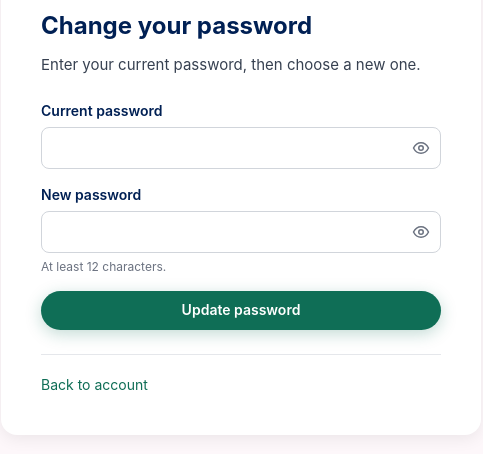
Test: ResetPasswordForm — validation › blocks when the new password equals the current password
The width and height of the screenshot is (483, 454).
Type "OldStrong!Pass99" into the password field labelled "Current password" at (241, 148), box [41,127,441,169]
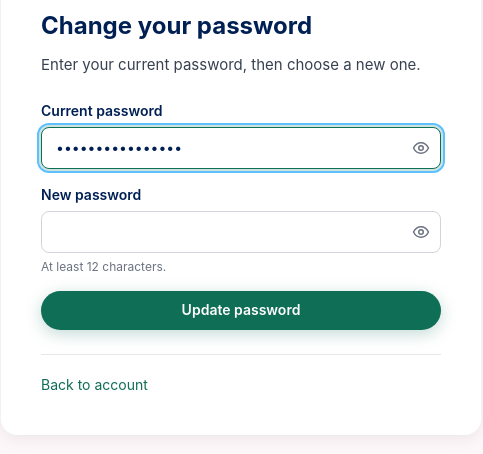
Type "OldStrong!Pass99" into the password field labelled "New password" at (241, 232), box [41,211,441,253]
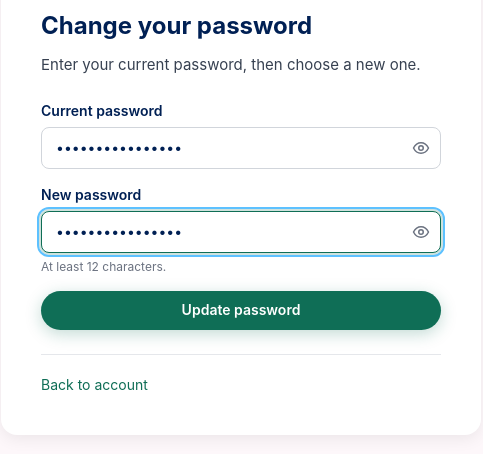
Click the button "Update password" at (241, 311), box [41,291,441,330]
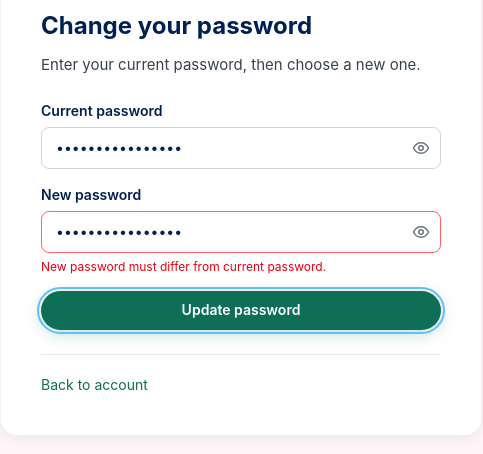
Result: the text "New password must differ from current password." is shown at [41,259,326,274]
